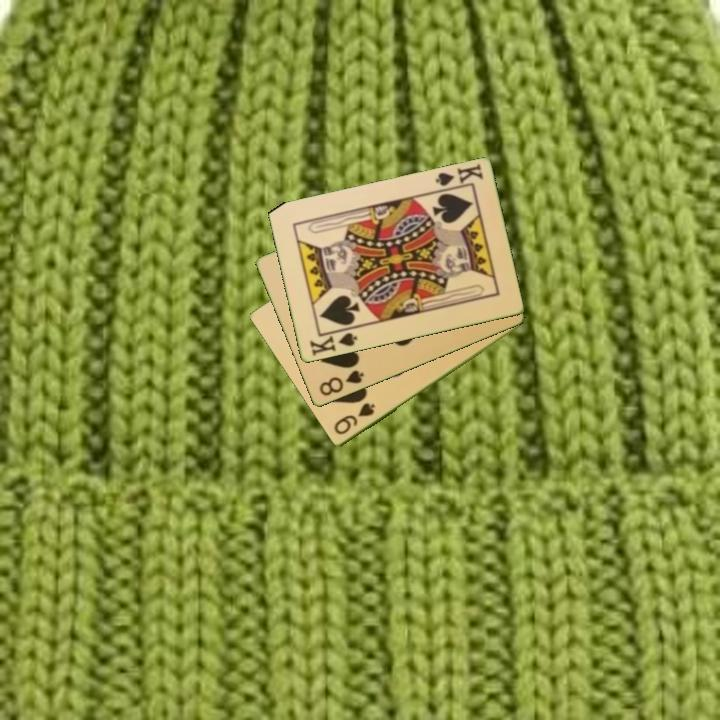8s: (315, 367, 367, 399)
9s: (330, 400, 378, 438)
Ks: (306, 325, 360, 359), (432, 160, 486, 194)
